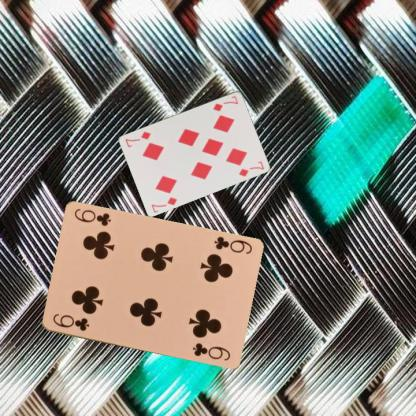6c: (211, 233, 253, 256), (50, 311, 90, 333)
7d: (149, 194, 179, 214), (210, 93, 240, 112)
